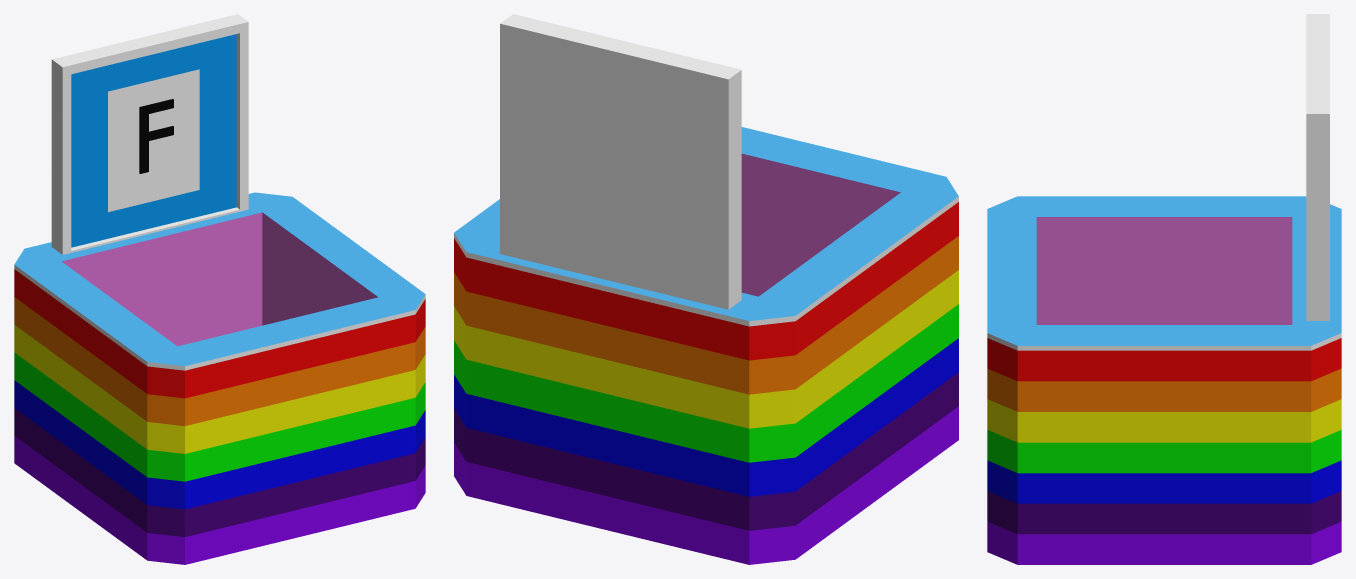
3 views of the same model, side by side, from view 1: azimuth 30°, elevation 25°; view 2: azimuth 150°, elevation 25°; view 3: azimuth 270°, elevation 25° (orthographic). The views are drawn at different scales.
Parts seen in each view (by area): view 1: Cube.001, Text; view 2: Cube.001; view 3: Cube.001.
Boxes of the visible parts, bbox=[...] form: Cube.001: bbox=[14, 14, 425, 564]; Text: bbox=[139, 99, 173, 173]; Cube.001: bbox=[454, 14, 958, 564]; Cube.001: bbox=[987, 14, 1341, 564].
Size of the model in its own units: 383 by 508 by 383.
